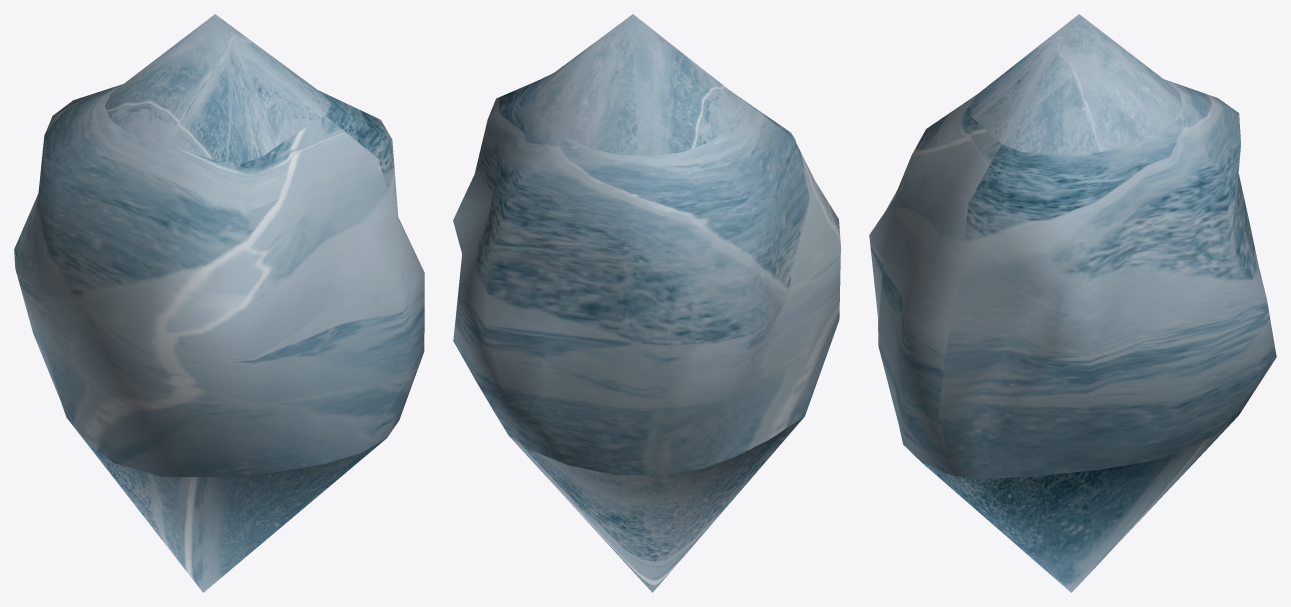
File: iceberg.fbx
3 renders of one model, left to right at view 1: azimuth 30°, elevation 25°; view 2: azimuth 150°, elevation 25°; view 3: azimuth 270°, elevation 25°, orthographic. The views are drawn at different scales.
Visible parts, largest first — view 1: pCylinder1; view 2: pCylinder1; view 3: pCylinder1.
Part boxes in pixels (bbox=[...]): pCylinder1: bbox=[14, 14, 424, 592]; pCylinder1: bbox=[453, 14, 840, 592]; pCylinder1: bbox=[869, 14, 1276, 592].
Size of the model in its own units: 4.91 by 8.07 by 5.08.
1 material, 1 textured.
